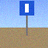sign: (19, 1, 34, 35)
